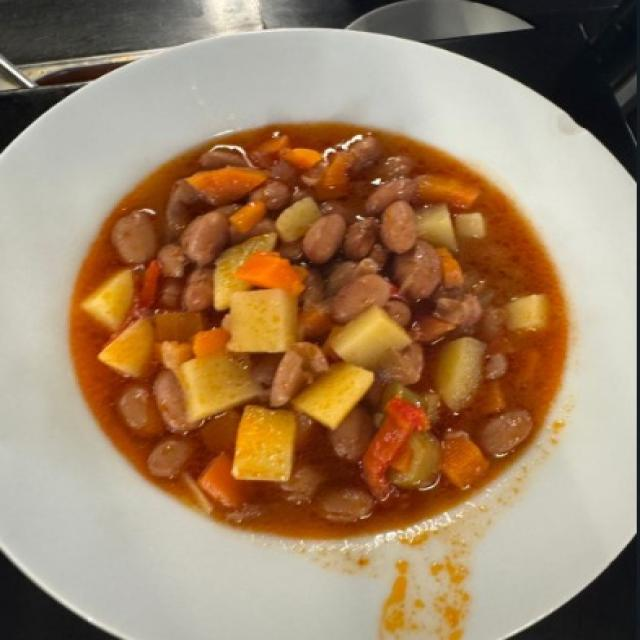corba: (73, 122, 560, 536)
